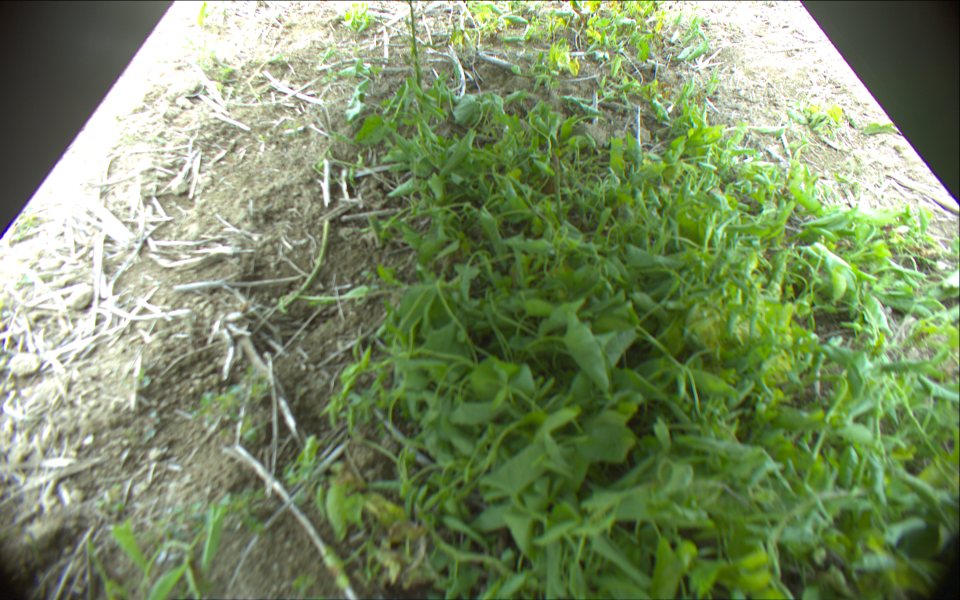aspa: (407, 1, 421, 86)
